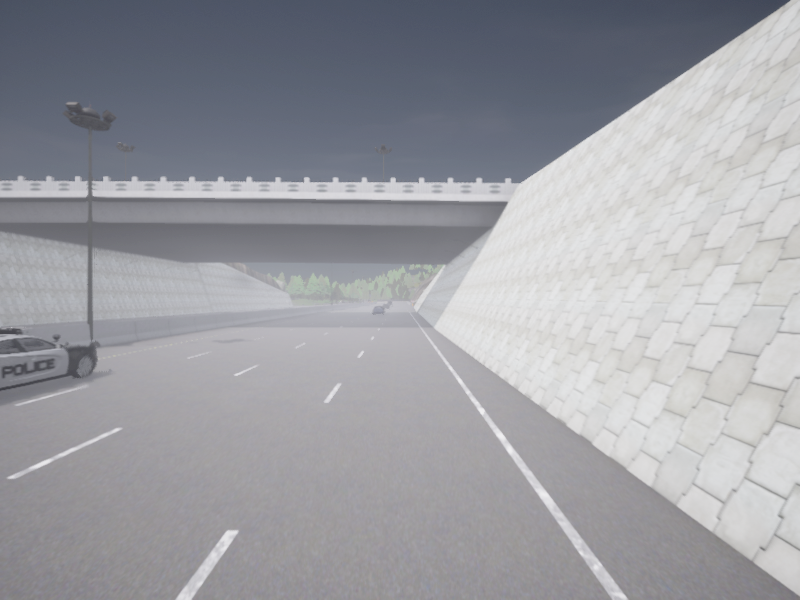vehicle: (0, 328, 96, 390), (373, 306, 385, 314), (383, 303, 389, 309), (388, 301, 392, 306)
